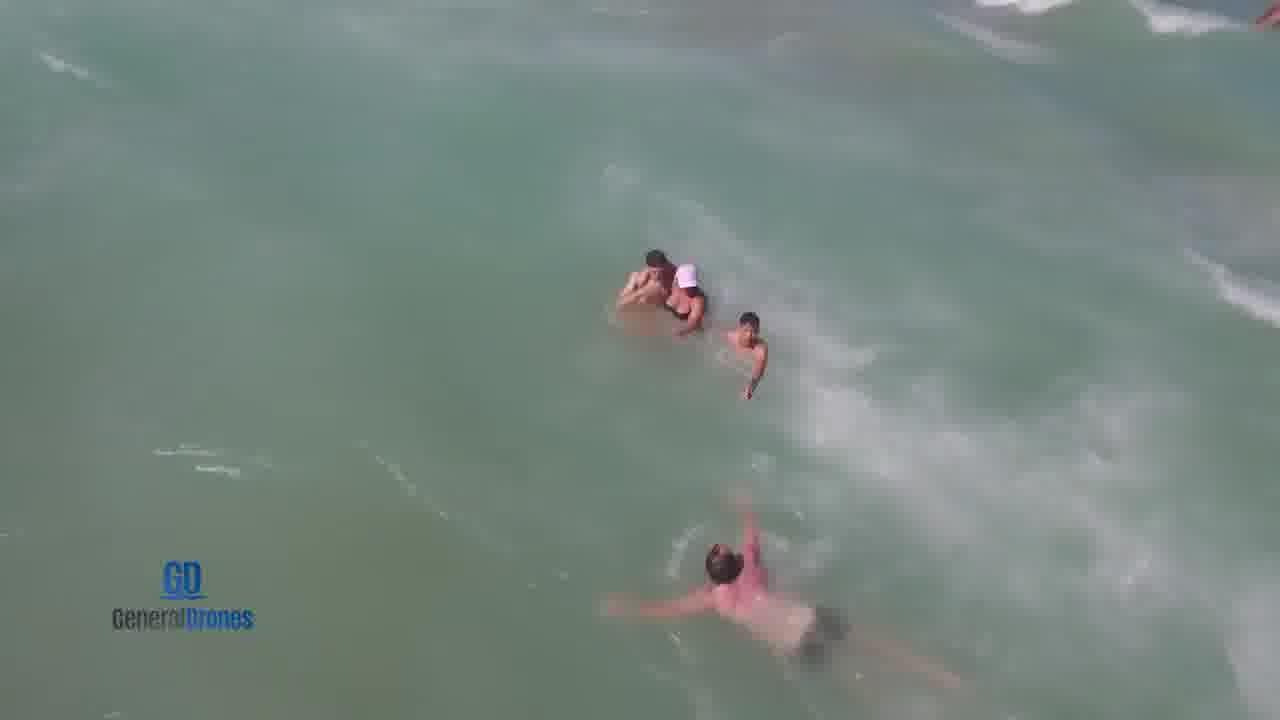swimmer: (597, 490, 856, 664), (719, 302, 774, 400), (601, 241, 676, 311), (668, 254, 710, 340)
